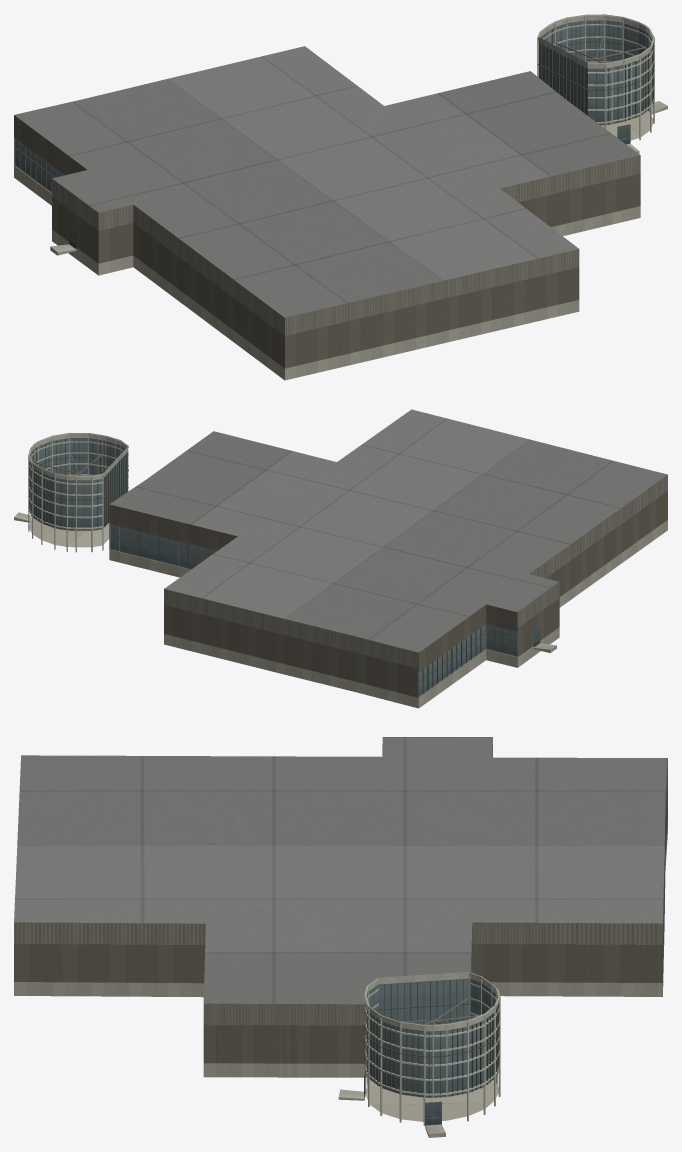
The model's file is activity_center_bookstore.glb.
3 renders of one model, top to bottom at view 1: azimuth 30°, elevation 25°; view 2: azimuth 150°, elevation 25°; view 3: azimuth 270°, elevation 25°, orthographic. The views are drawn at different scales.
Parts seen in each view (by area): view 1: activity_center_bookstore_CampusAtlas_facade, activity_center_bookstore_CampusAtlas_glass; view 2: activity_center_bookstore_CampusAtlas_facade, activity_center_bookstore_CampusAtlas_glass; view 3: activity_center_bookstore_CampusAtlas_facade, activity_center_bookstore_CampusAtlas_glass.
Boxes of the visible parts, x1,y1,x2,y2 form: activity_center_bookstore_CampusAtlas_facade: [14, 14, 667, 380]; activity_center_bookstore_CampusAtlas_glass: [15, 20, 652, 248]; activity_center_bookstore_CampusAtlas_facade: [14, 409, 667, 708]; activity_center_bookstore_CampusAtlas_glass: [29, 438, 540, 696]; activity_center_bookstore_CampusAtlas_facade: [14, 737, 667, 1137]; activity_center_bookstore_CampusAtlas_glass: [364, 978, 497, 1125].
Bounding box in the file's own units: 79.22 × 11.86 × 62.87.
Materials: 2 (2 with a texture image).
